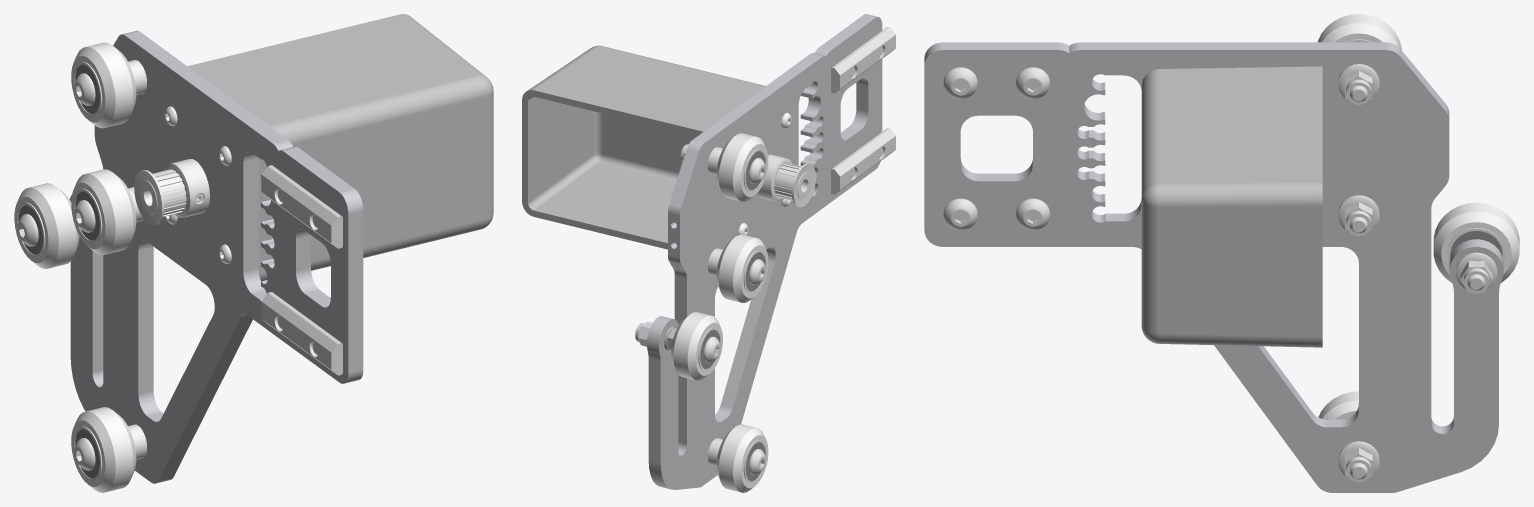
File: gantry_wheel_plate_v19.glb
3 renders of one model, left to right at view 1: azimuth 30°, elevation 25°; view 2: azimuth 150°, elevation 25°; view 3: azimuth 270°, elevation 25°, orthographic. The views are drawn at different scales.
Parts seen in each view (by area): view 1: Gantry Wheel Plate; view 2: Gantry Wheel Plate; view 3: Gantry Wheel Plate.
Boxes of the visible parts, x1,y1,x2,y2 form: Gantry Wheel Plate: (14,14,493,492); Gantry Wheel Plate: (522,14,895,492); Gantry Wheel Plate: (924,14,1519,492).
Bounding box in the file's own units: 0.1052 × 0.1389 × 0.1644.
1 material, 1 textured.
